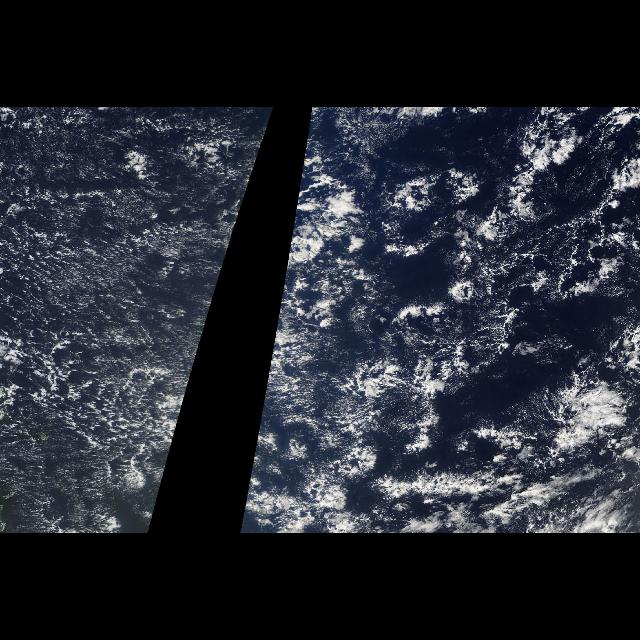Gravel: (315, 112, 635, 514), (4, 114, 242, 473)
Sugar: (5, 111, 225, 467)
